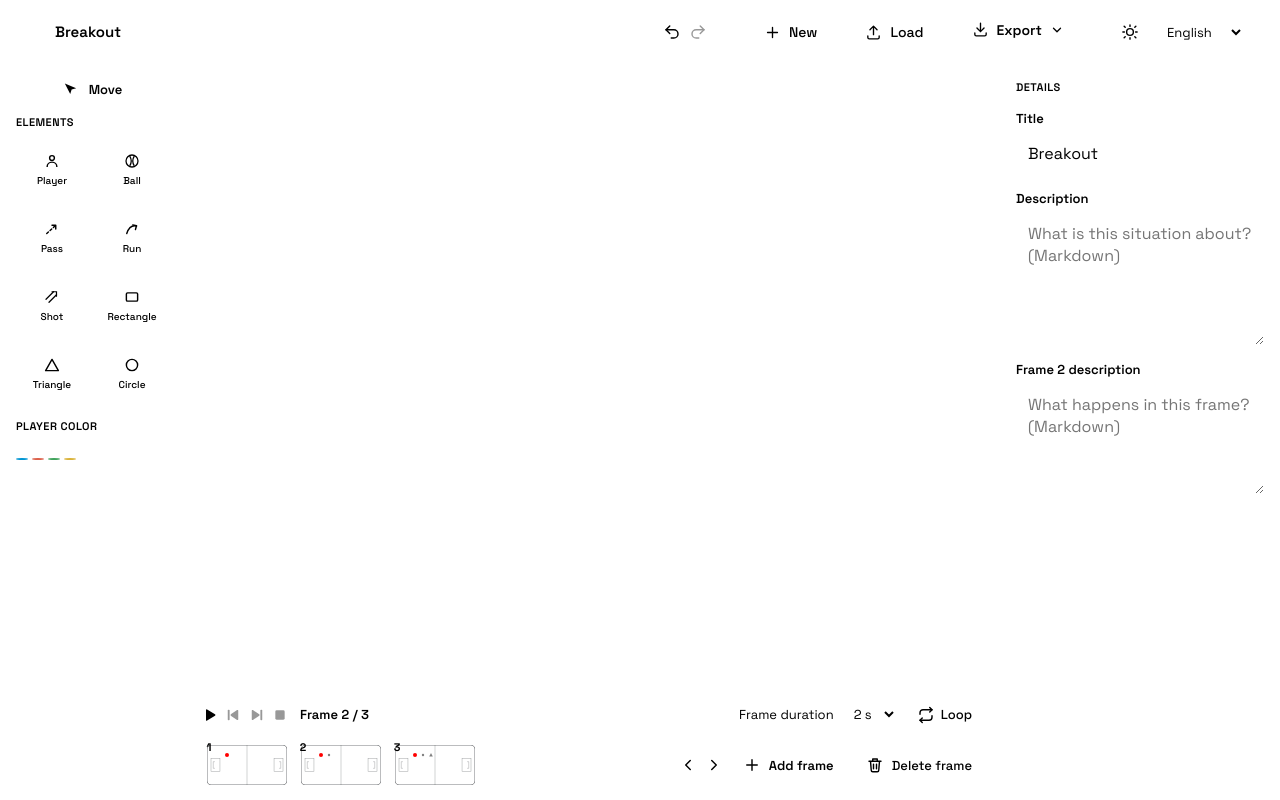
Test: editor page: slideshow playback › while playing › the tool panel is disabled
Click the button named "Play". click: (209, 714)
box: [200, 706, 218, 724]
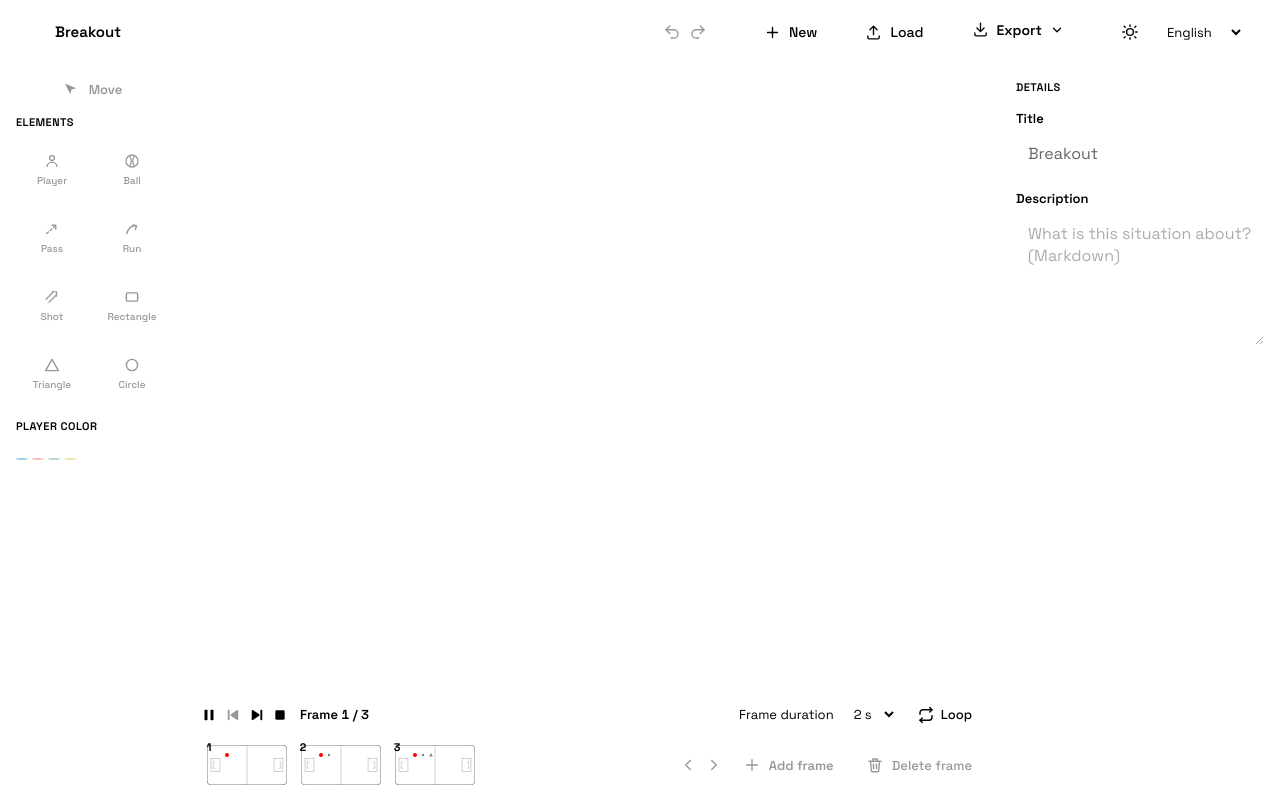
Check: the button "Move" is disabled, box [16, 80, 168, 99]
Check: the button "Player" is disabled, box [16, 139, 88, 199]
Check: the button "Ball" is disabled, box [96, 139, 168, 199]
